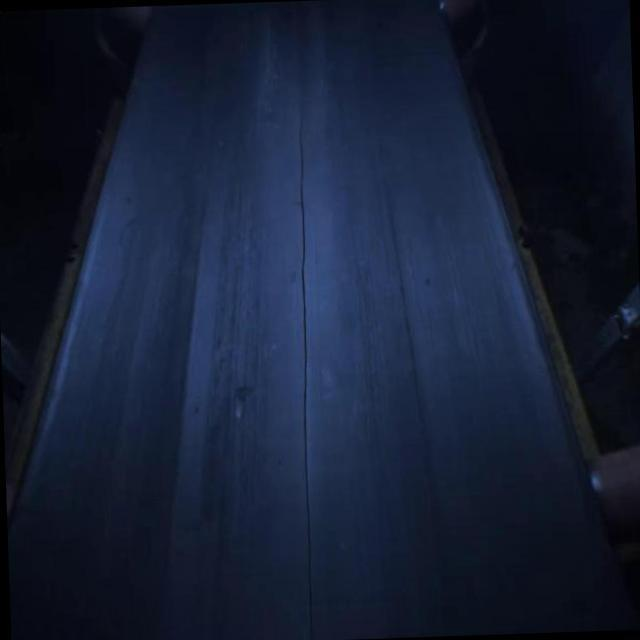Tear: (283, 21, 327, 640)
